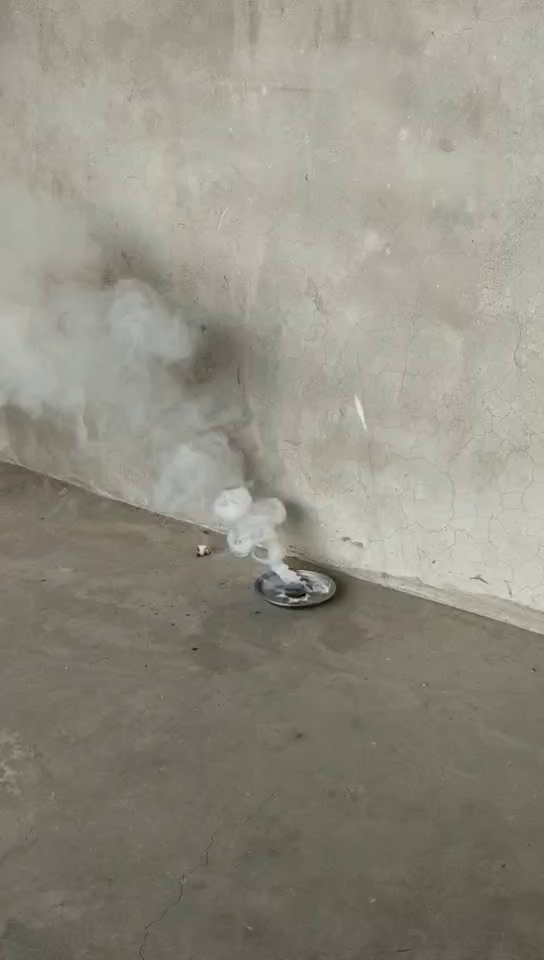yanwu: (38, 272, 293, 577)
